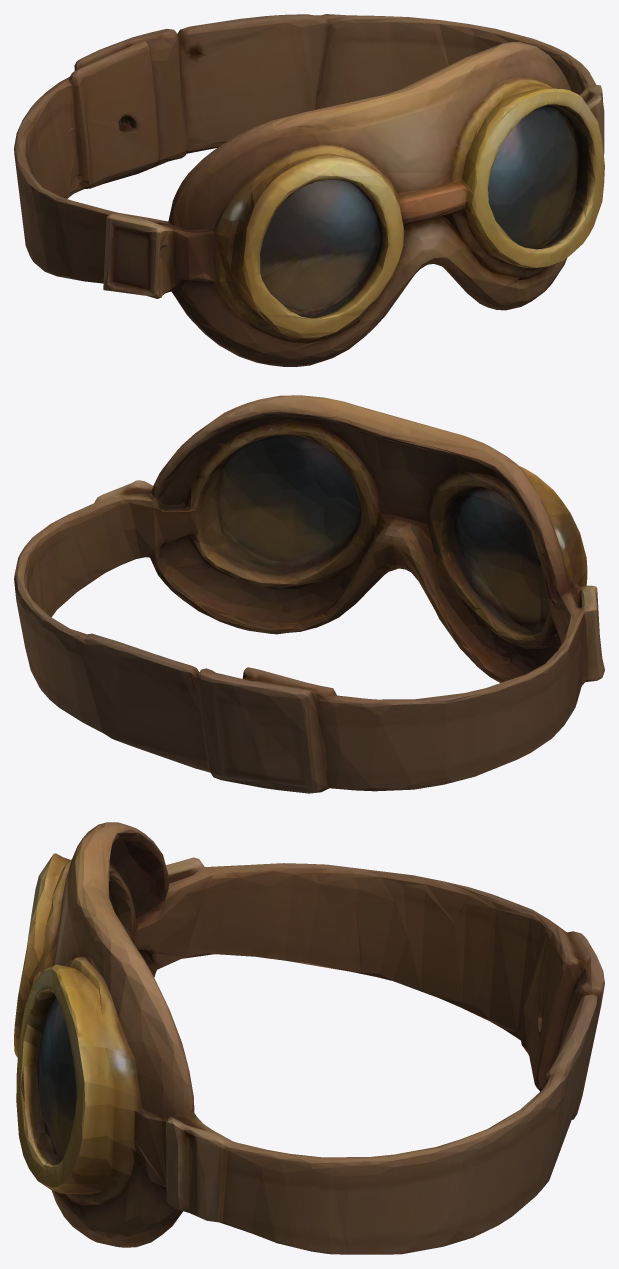
The model's file is brass_diving_goggles.glb.
3 renders of one model, top to bottom at view 1: azimuth 30°, elevation 25°; view 2: azimuth 150°, elevation 25°; view 3: azimuth 270°, elevation 25°, orthographic. The views are drawn at different scales.
Parts seen in each view (by area): view 1: geometry_0; view 2: geometry_0; view 3: geometry_0.
Part boxes in pixels (left/top/right/bottom): geometry_0: left=14, top=14, right=604, bottom=366; geometry_0: left=14, top=395, right=604, bottom=793; geometry_0: left=14, top=822, right=604, bottom=1254.
Size of the model in its own units: 0.6 by 0.2749 by 0.4938.
1 material, 1 textured.
